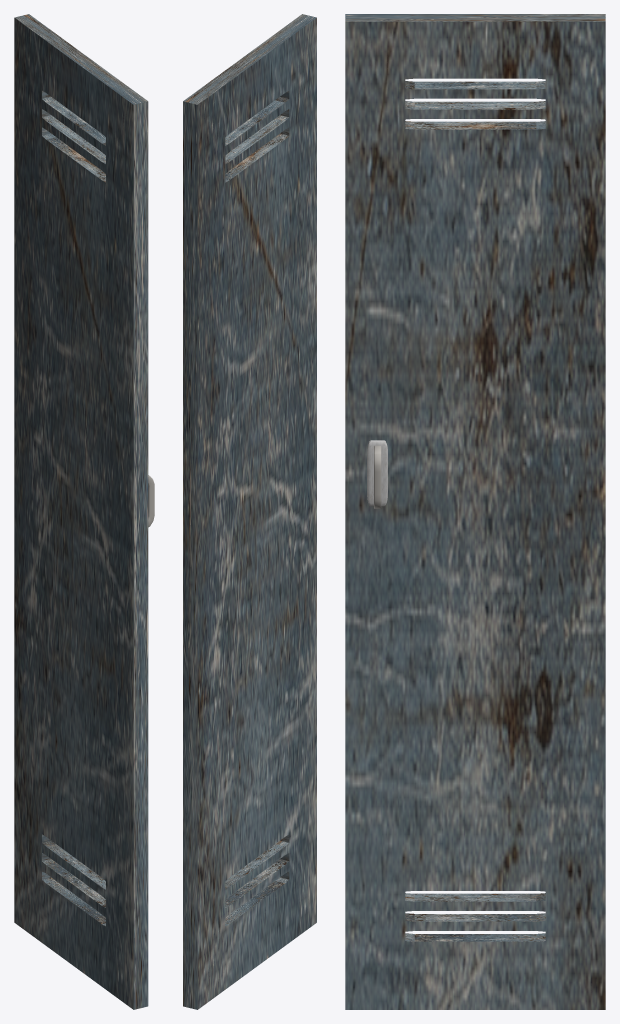
Rendered from locker_door_right.glb.
The picture shows the model from 3 angles, left to right: view 1: azimuth 30°, elevation 25°; view 2: azimuth 150°, elevation 25°; view 3: azimuth 270°, elevation 25°; orthographic projection. The views are drawn at different scales.
Visible parts, largest first — view 1: Cube.005; view 2: Cube.005; view 3: Cube.005, Cube.
Part boxes in pixels (box(x1,y1,x2,y2)): Cube.005: box(14, 14, 148, 1009); Cube.005: box(183, 14, 316, 1009); Cube.005: box(345, 14, 605, 1009); Cube: box(367, 440, 387, 506).
Bounding box in the file's own units: 0.2754 × 6.89 × 1.65.
Materials: 2 (2 with a texture image).
